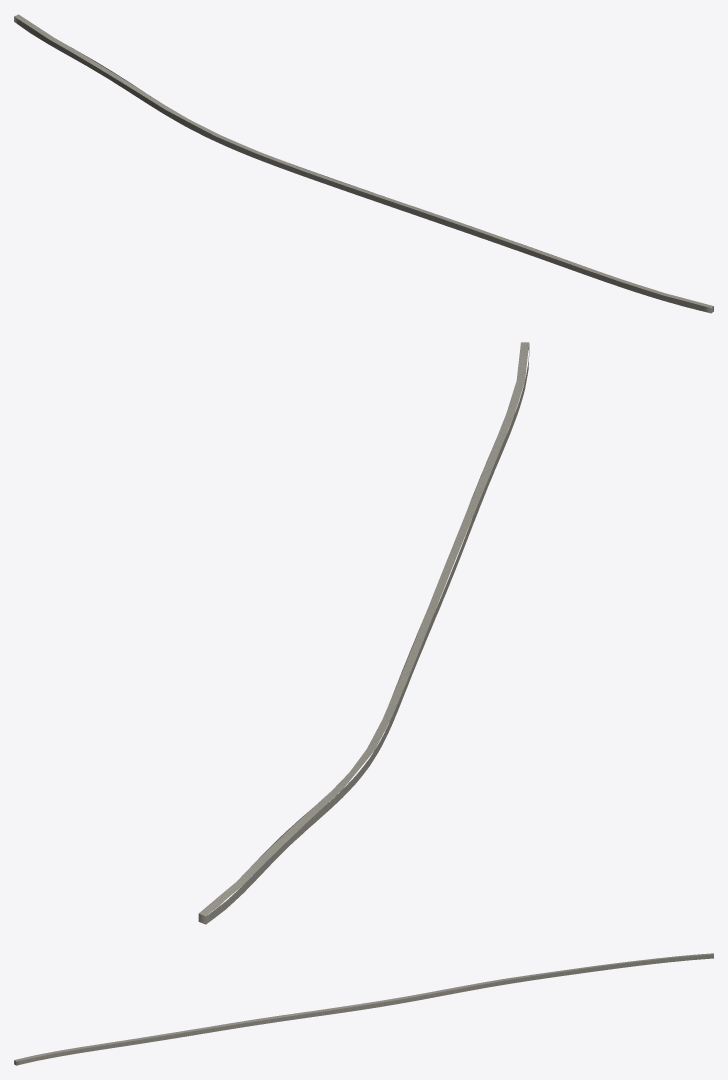
Rendered from curb_08.glb.
The picture shows the model from 3 angles, top to bottom: view 1: azimuth 30°, elevation 25°; view 2: azimuth 150°, elevation 25°; view 3: azimuth 270°, elevation 25°; orthographic projection. The views are drawn at different scales.
Visible parts, largest first — view 1: curb_08.sides, curb_08.surface; view 2: curb_08.surface, curb_08.sides; view 3: curb_08.sides, curb_08.surface.
Part boxes in pixels (x1,y1,x2,y2): curb_08.sides: (14,16,713,313); curb_08.surface: (14,14,713,308); curb_08.surface: (199,342,529,916); curb_08.sides: (198,344,529,924); curb_08.sides: (14,954,713,1065); curb_08.surface: (14,953,713,1061).
Size of the model in its own units: 7.84 by 0.8166 by 24.82.
1 material, 1 textured.
